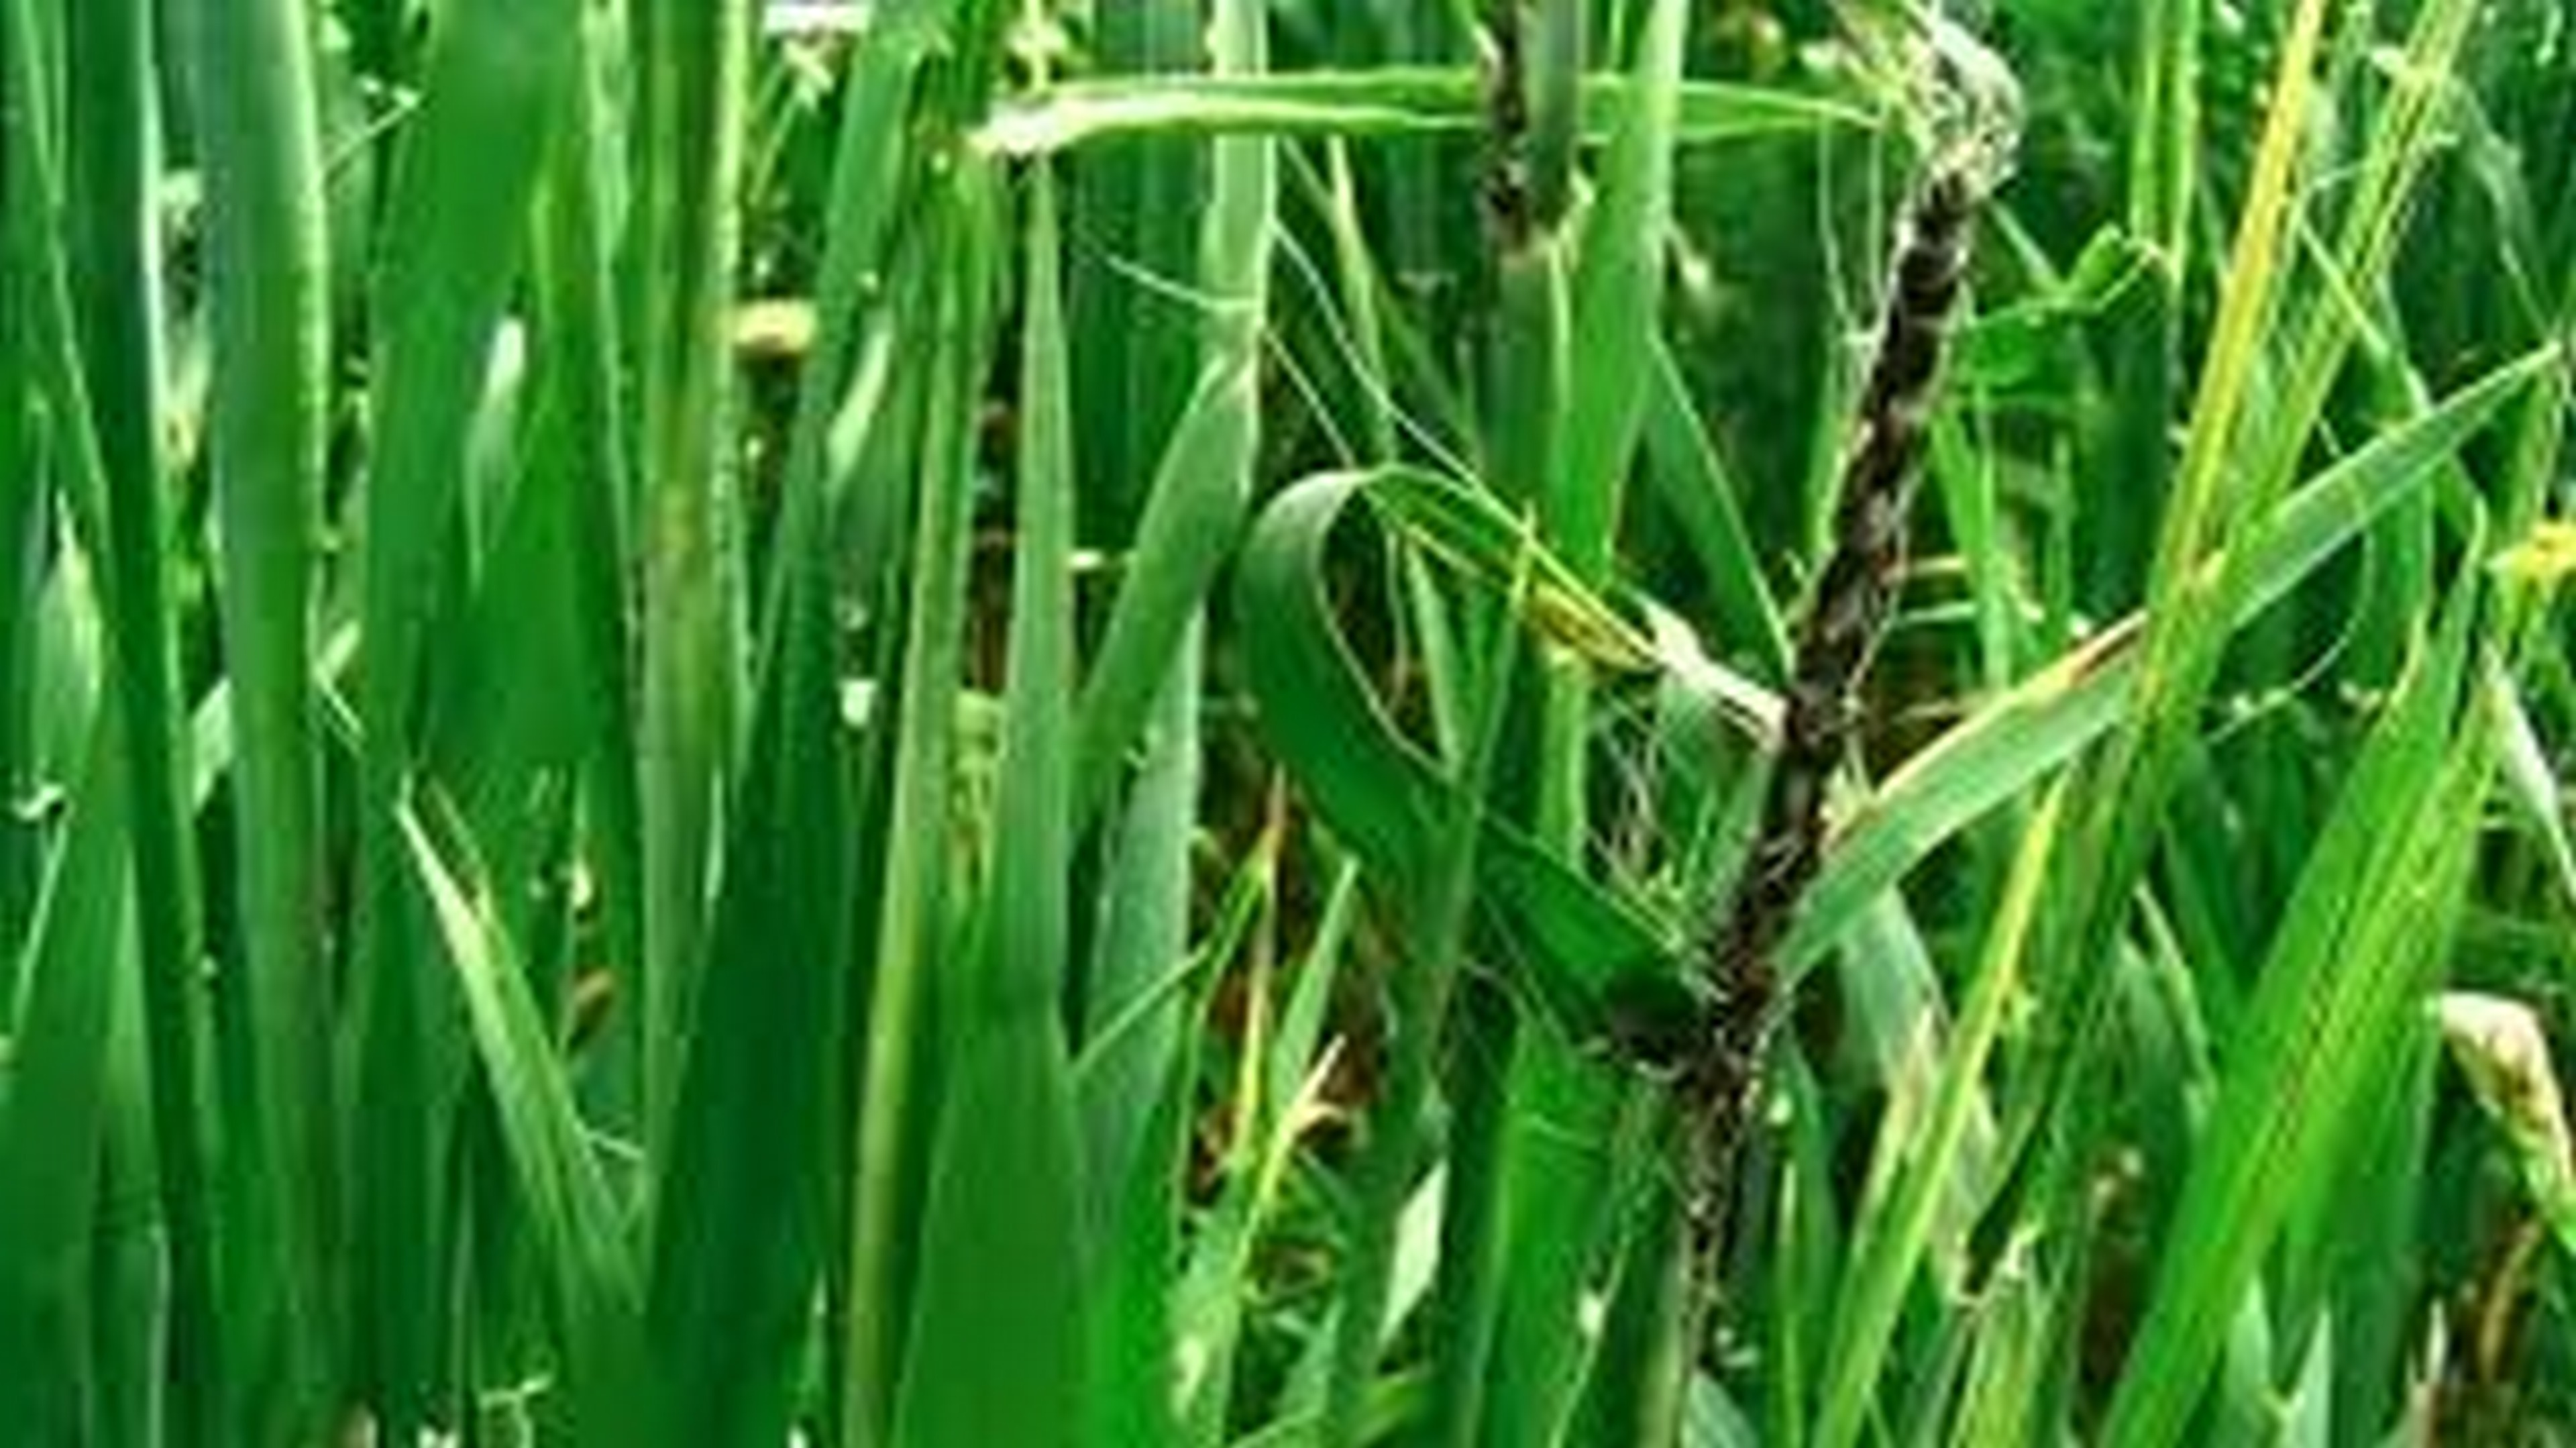Wheat Loose Smut: (1704, 173, 2022, 1064)
